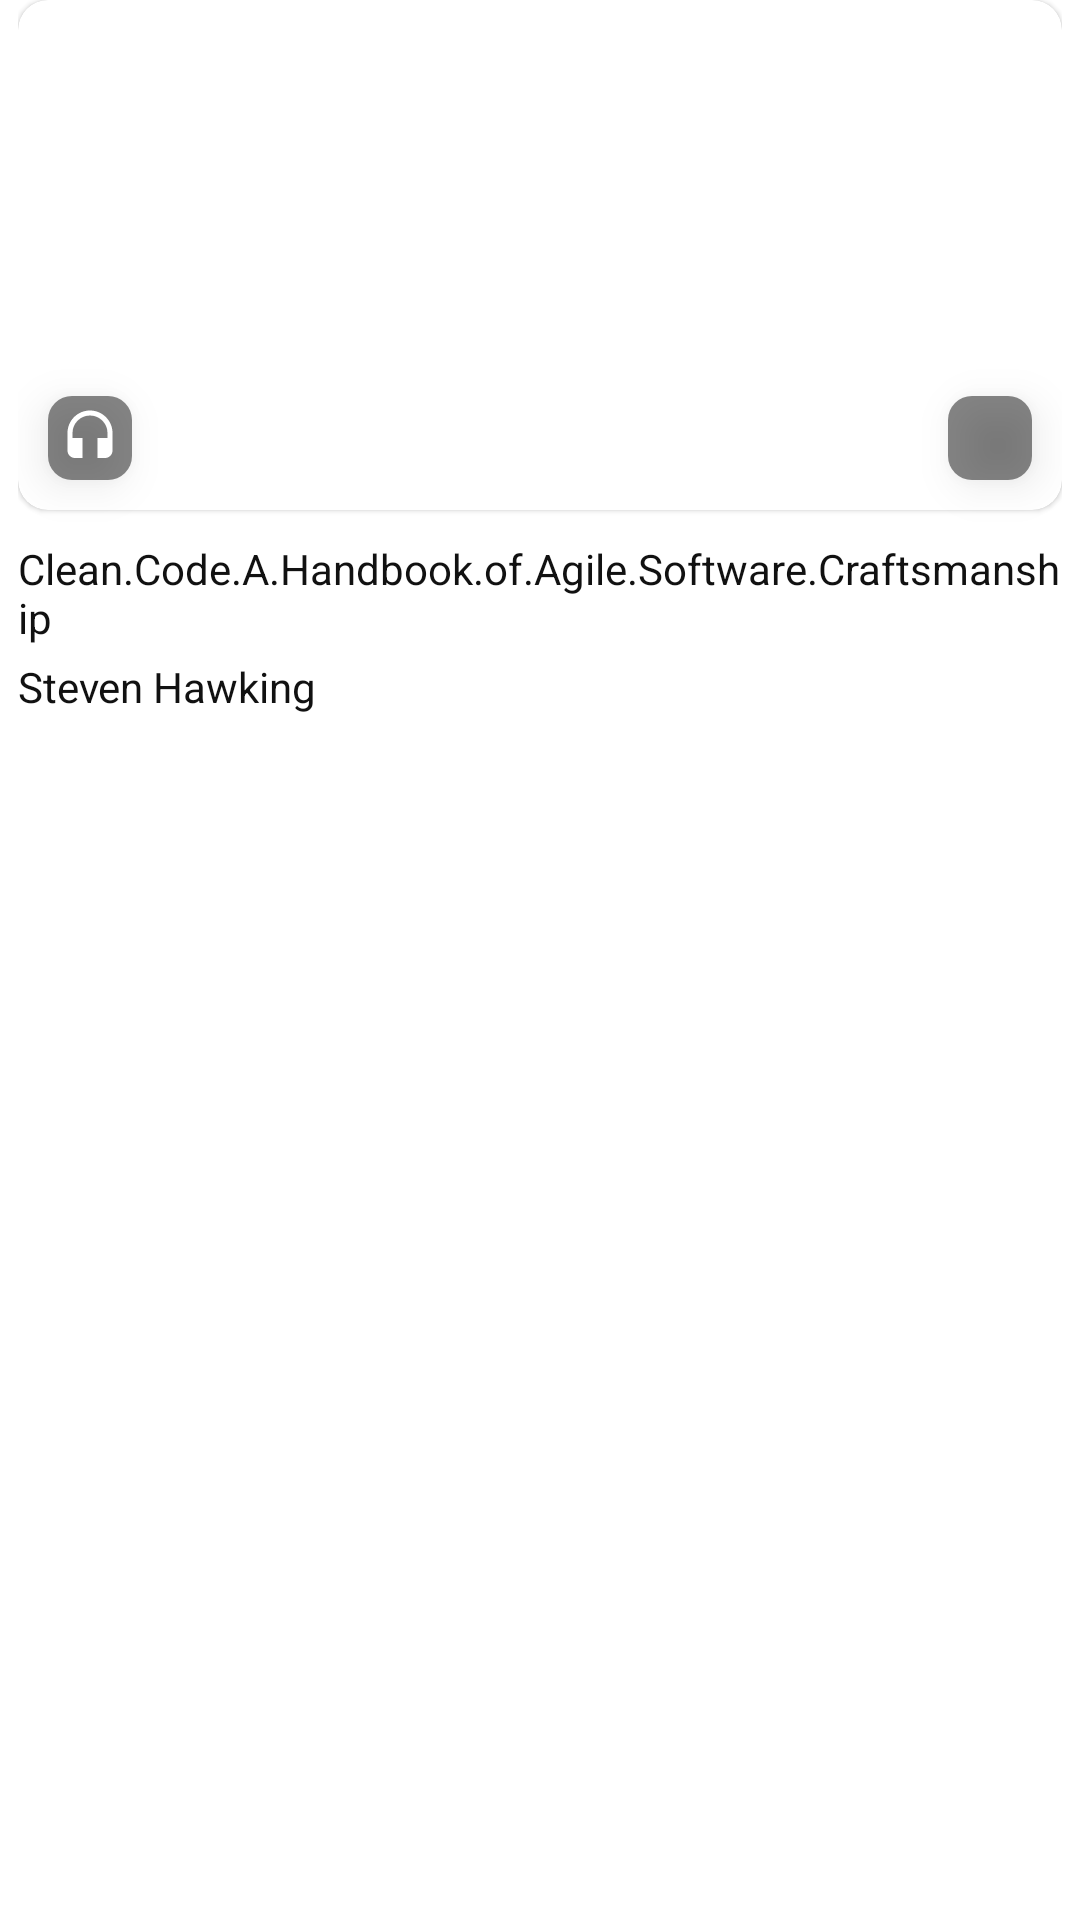

Icons on this 1080*1920 Android screen, each with the point to tap as point (x, y):
headset: point (90, 434)
